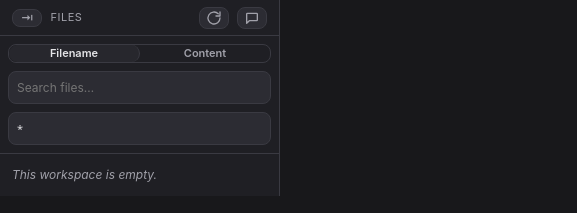
it: FileTree.vue — Files 侧栏头 + 展开/收缩切换 › 点击切换 → 加 expanded class、aria-pressed=true、图标 ⇥→⇤
Click the button with test id "files-tree-toggle": (27, 18) [12,8,42,26]
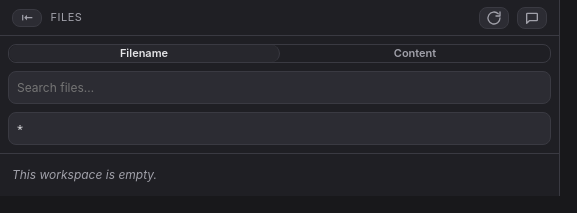
Expected: the button with test id "files-tree-toggle" reads "⇤", [12,8,42,26]
